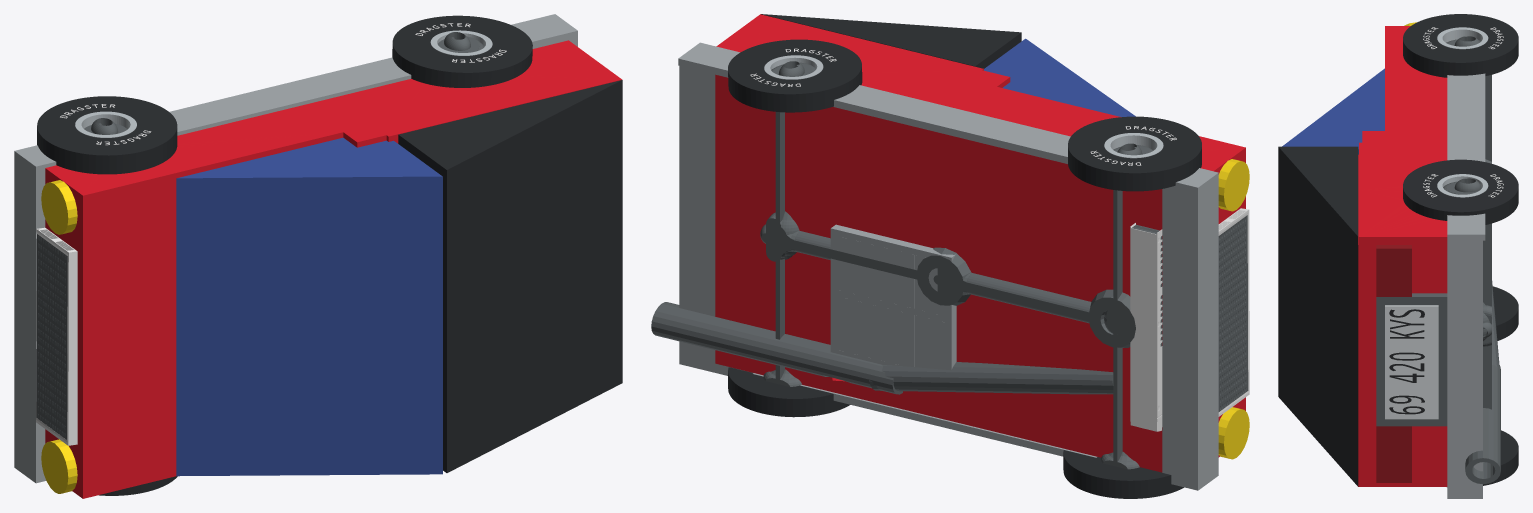
Rendered from tinker.obj.
3 renders of one model, left to right at view 1: azimuth 30°, elevation 25°; view 2: azimuth 150°, elevation 25°; view 3: azimuth 270°, elevation 25°, orthographic. The views are drawn at different scales.
Parts seen in each view (by area): view 1: group_0_3888547, group_0_2829873, group_0_15277357, group_0_10988977, group_0_6383466, group_0_16448250, group_0_16768282, group_0_12568524; view 2: group_0_15277357, group_0_10988977, group_0_6383466, group_0_2829873, group_0_16448250, group_0_3888547, group_0_16768282, group_0_12568524; view 3: group_0_2829873, group_0_15277357, group_0_10988977, group_0_6383466, group_0_14541540, group_0_9771553, group_0_3888547, group_0_12568524, group_0_16448250.
Part boxes in pixels (x1,y1,x2,y2): group_0_3888547: (176, 137, 442, 476); group_0_2829873: (37, 15, 622, 495); group_0_15277357: (45, 40, 622, 498); group_0_10988977: (14, 14, 577, 483); group_0_6383466: (36, 32, 484, 439); group_0_16448250: (36, 23, 506, 445); group_0_16768282: (41, 180, 77, 493); group_0_12568524: (75, 30, 492, 137); group_0_15277357: (715, 14, 1245, 472); group_0_10988977: (678, 42, 1218, 490); group_0_6383466: (651, 61, 1248, 469); group_0_2829873: (728, 14, 1201, 498); group_0_16448250: (750, 48, 1249, 431); group_0_3888547: (984, 38, 1135, 116); group_0_16768282: (1218, 159, 1249, 459); group_0_12568524: (764, 55, 1163, 158); group_0_2829873: (1278, 14, 1518, 486); group_0_15277357: (1358, 26, 1447, 486); group_0_10988977: (1447, 73, 1485, 498); group_0_6383466: (1376, 36, 1500, 484); group_0_14541540: (1385, 305, 1438, 419); group_0_9771553: (1376, 245, 1411, 482); group_0_3888547: (1282, 68, 1384, 154); group_0_12568524: (1437, 27, 1488, 197); group_0_16448250: (1423, 27, 1503, 197).
Bounding box in the file's own units: 60 × 35 × 27.
